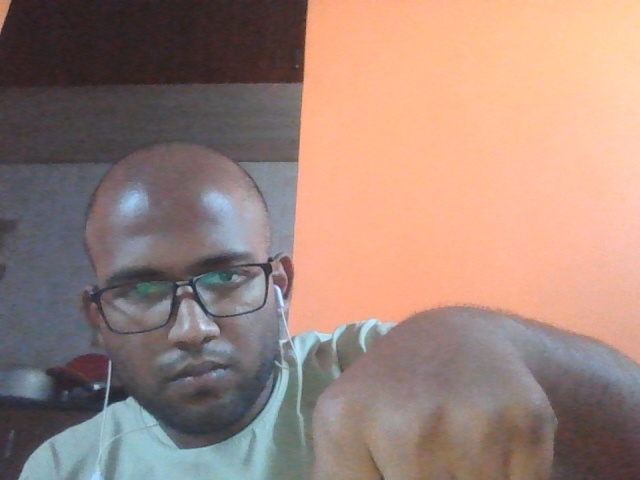yes: (291, 301, 583, 480)
